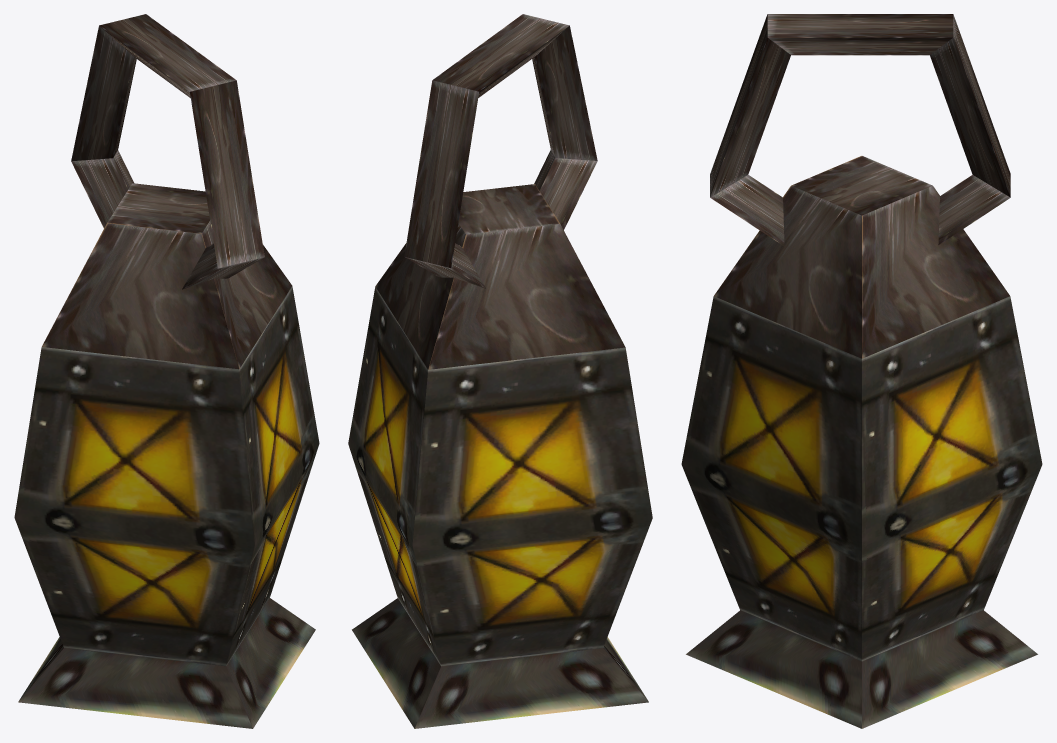
The model's file is generallantern01.obj.
The picture shows the model from 3 angles, left to right: view 1: azimuth 30°, elevation 25°; view 2: azimuth 150°, elevation 25°; view 3: azimuth 270°, elevation 25°; orthographic projection. The views are drawn at different scales.
Parts seen in each view (by area): view 1: Geoset1, Geoset0; view 2: Geoset1, Geoset0; view 3: Geoset1, Geoset0.
Boxes of the visible parts, x1=… form: Geoset1: x1=14, y1=286, x2=319, y2=666; Geoset0: x1=18, y1=14, x2=315, y2=728; Geoset1: x1=348, y1=287, x2=652, y2=666; Geoset0: x1=352, y1=14, x2=648, y2=728; Geoset1: x1=681, y1=296, x2=1042, y2=661; Geoset0: x1=686, y1=14, x2=1037, y2=728.
Size of the model in its own units: 0.7158 by 1.38 by 0.7158.
2 materials, 2 textured.
